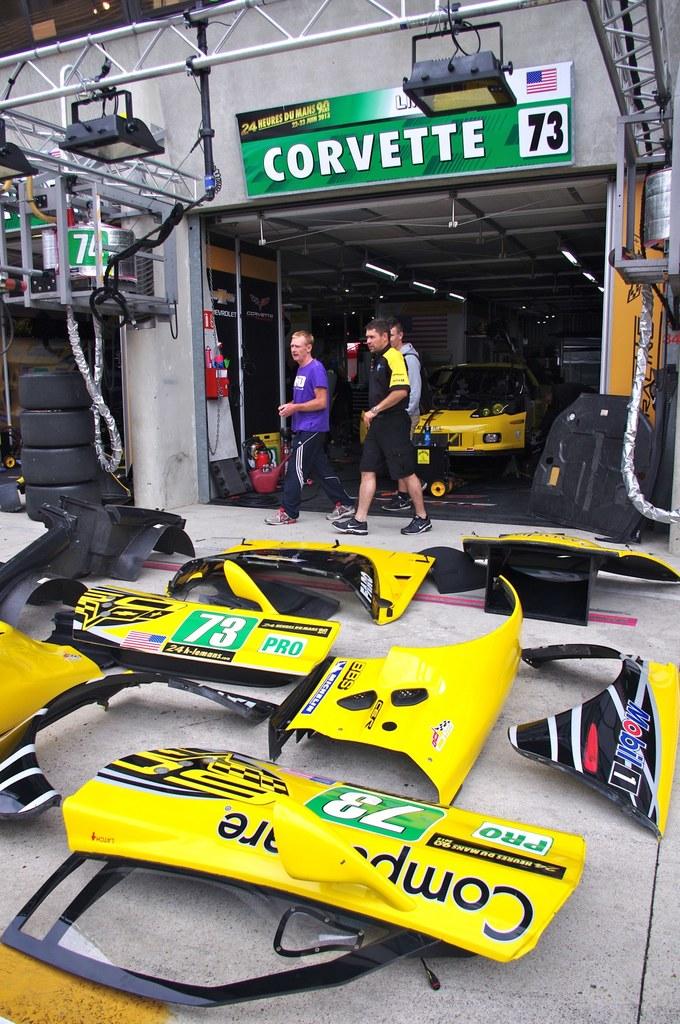Car: (410, 352, 550, 487)
